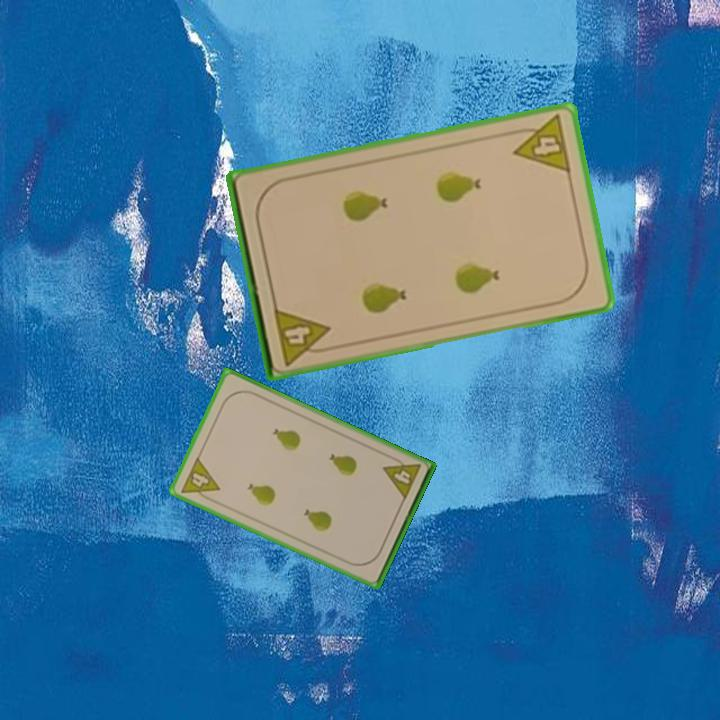4p: (506, 111, 574, 176), (270, 304, 336, 368), (177, 453, 223, 505), (379, 452, 424, 503)
